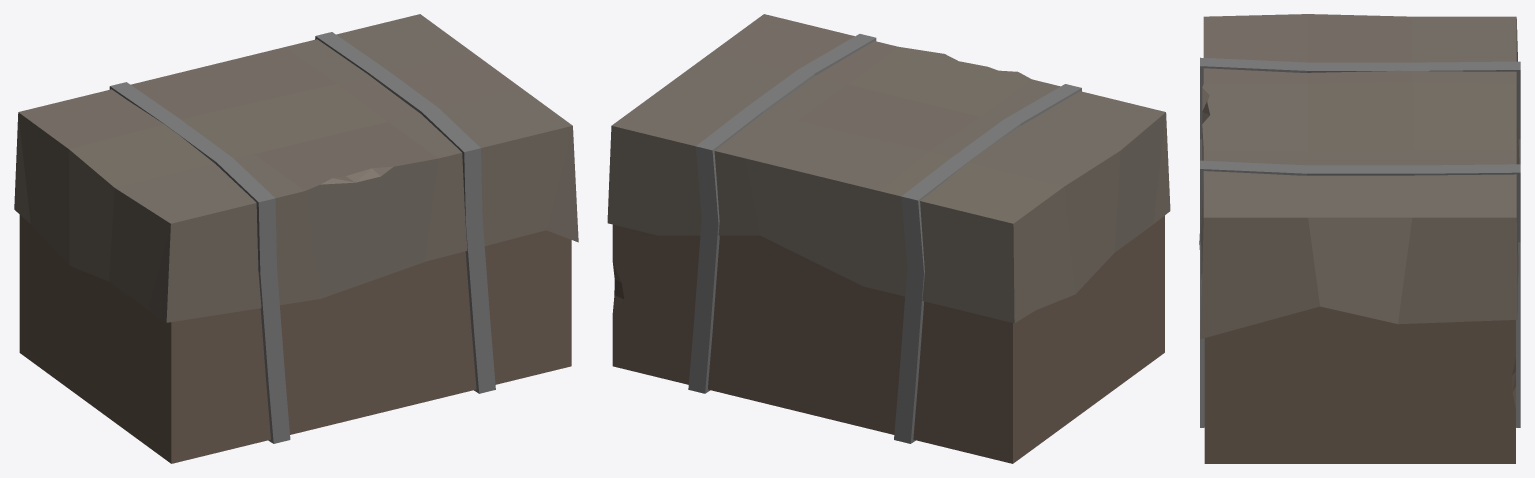
The model's file is Wh_Crate_01.fbx.
3 views of the same model, side by side, from view 1: azimuth 30°, elevation 25°; view 2: azimuth 150°, elevation 25°; view 3: azimuth 270°, elevation 25° (orthographic). The views are drawn at different scales.
Visible parts, largest first — view 1: Cube.741; view 2: Cube.741; view 3: Cube.741.
Part boxes in pixels (x1,y1,x2,y2): Cube.741: (14, 14, 578, 463); Cube.741: (607, 14, 1170, 463); Cube.741: (1199, 14, 1520, 463).
Size of the model in its own units: 198 by 110 by 126.
